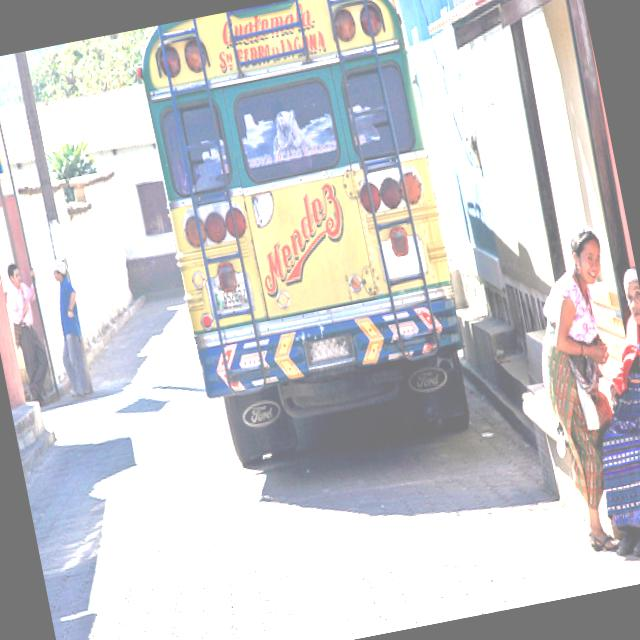Vehicle: (124, 0, 481, 474)
